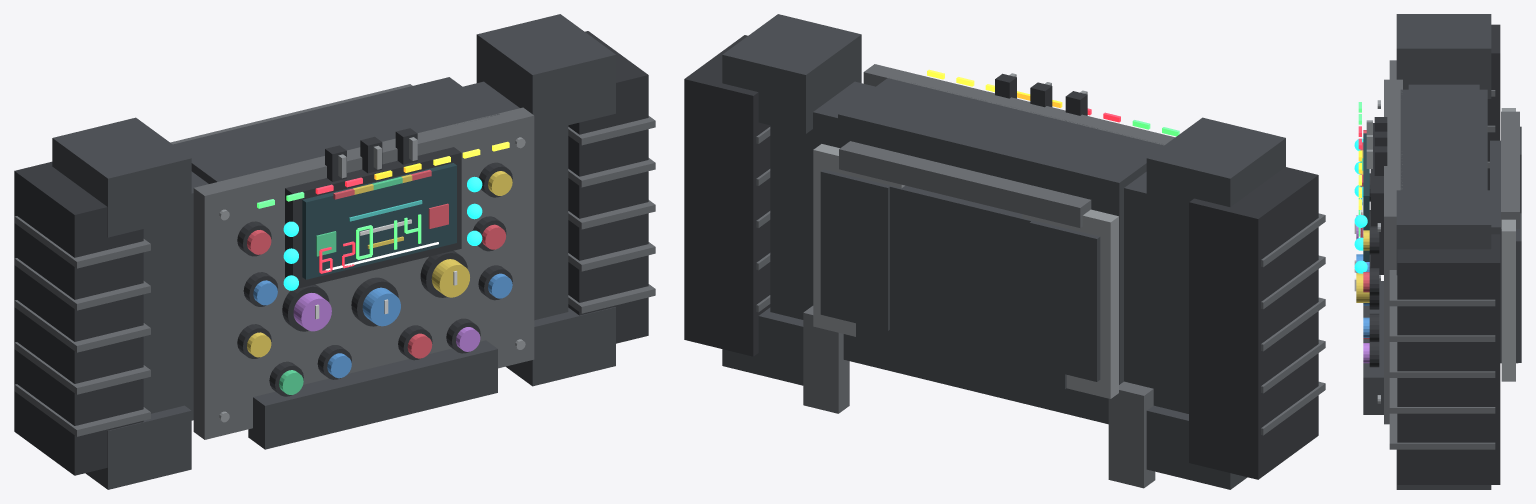
Rendered from Volantegpt.glb.
The picture shows the model from 3 angles, left to right: view 1: azimuth 30°, elevation 25°; view 2: azimuth 150°, elevation 25°; view 3: azimuth 270°, elevation 25°; orthographic projection. The views are drawn at different scales.
Parts seen in each view (by area): view 1: front fascia, left grip core, right grip core, central chassis, lower bridge, right upper inward arm, left upper inward arm, display glass, left shoulder, right shoulder, right lower inward arm, left lower inward arm (+18 smaller); view 2: left grip core, central chassis, rear electronics cover, right grip core, left shoulder, right upper inward arm, left paddle inset, right paddle inset, left upper inward arm, right shoulder, rear top ridge, left rear paddle (+6 smaller); view 3: right grip core, central chassis, left upper inward arm, right upper inward arm, front fascia, right rear paddle, rear top ridge, lower bridge, left grip core, rear electronics cover, screen bezel, right grip rib 0 (+16 smaller).
Part boxes in pixels (x1,y1,x2,y2): front fascia: (193, 107, 534, 439); left grip core: (14, 161, 143, 475); right grip core: (568, 31, 648, 343); central chassis: (173, 77, 499, 183); lower bridge: (248, 340, 497, 449); right upper inward arm: (476, 14, 615, 133); left upper inward arm: (52, 117, 191, 237); display glass: (302, 163, 456, 279); left shoulder: (143, 171, 208, 420); right shoulder: (463, 81, 568, 320); right lower inward arm: (506, 307, 615, 386); left lower inward arm: (85, 405, 191, 489); left grip core: (1189, 167, 1318, 479); central chassis: (838, 78, 1163, 424); rear electronics cover: (856, 177, 1066, 389); right grip core: (684, 35, 770, 356); left shoulder: (1124, 172, 1188, 413); right upper inward arm: (722, 14, 861, 133); left paddle inset: (1029, 221, 1100, 381); right paddle inset: (820, 169, 889, 330); left upper inward arm: (1146, 117, 1285, 227); right shoulder: (770, 81, 875, 319); rear top ridge: (839, 141, 1091, 227); left rear paddle: (1022, 209, 1118, 398); right grip core: (1397, 234, 1500, 484); central chassis: (1400, 89, 1487, 190); left upper inward arm: (1396, 14, 1491, 98); right upper inward arm: (1396, 190, 1491, 274); front fascia: (1384, 79, 1402, 424); right rear paddle: (1501, 219, 1515, 381); rear top ridge: (1501, 111, 1519, 228); lower bridge: (1363, 281, 1383, 414); left grip core: (1487, 24, 1500, 190); rear electronics cover: (1490, 140, 1517, 363); screen bezel: (1370, 123, 1383, 274); right grip rib 0: (1389, 413, 1495, 449).
Bounding box in the file's own units: 0.36 × 0.195 × 0.1057.
